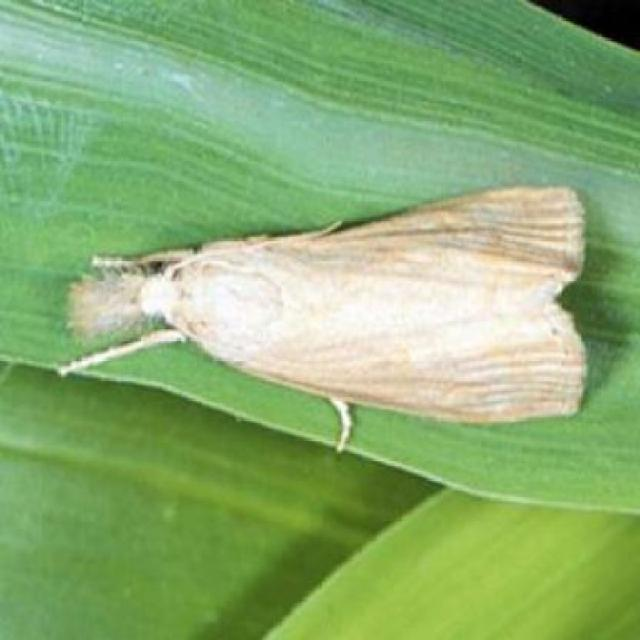stem-borer: (50, 172, 599, 458)
